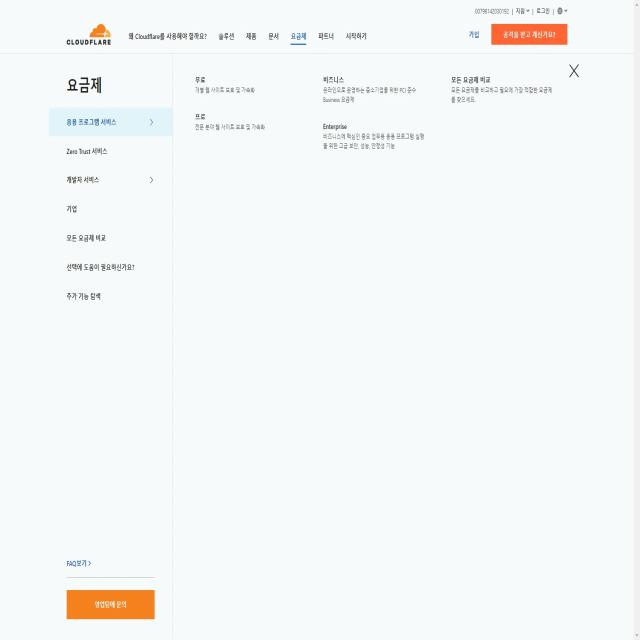menu-bar: (127, 22, 372, 48)
side-panel: (48, 69, 172, 310)
